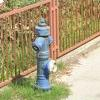a fire hydrant: (32, 17, 59, 90)
